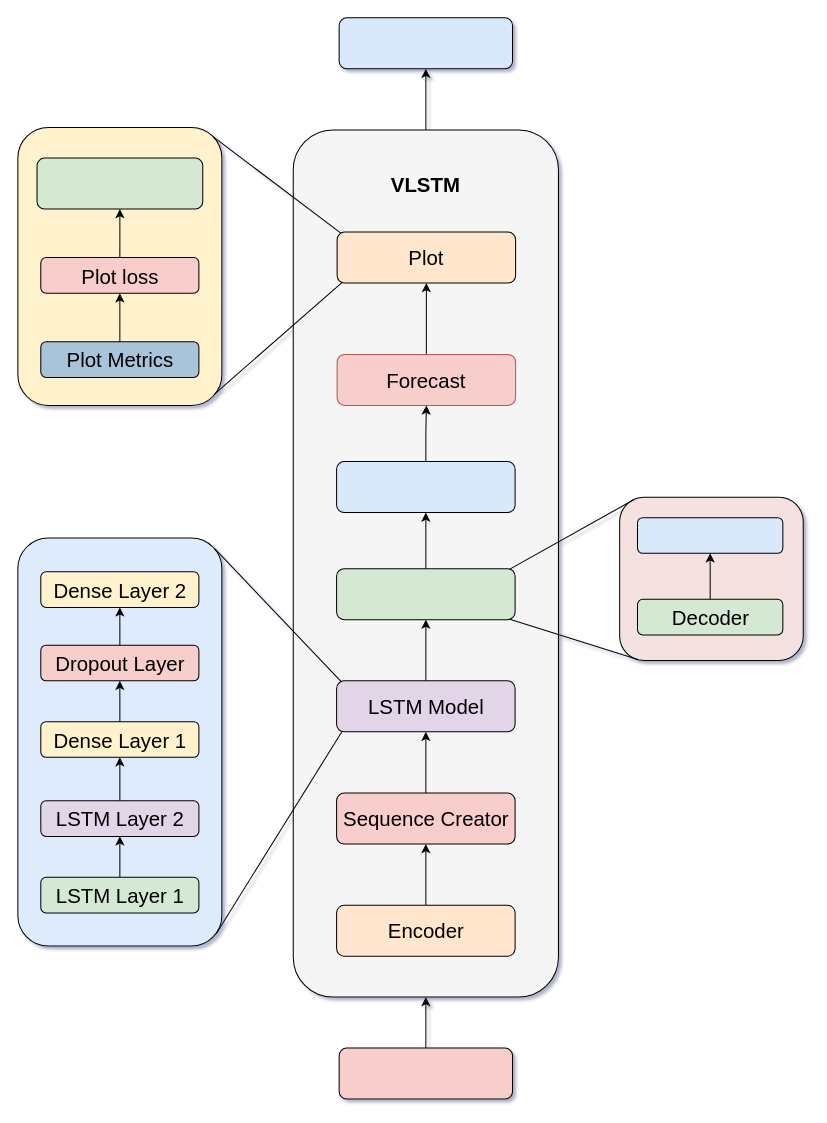
Image size: 827x1123. Some labels were removed from this diagram. Each missing label, with the box of its shape:
Evaluate: (636, 517, 783, 553)
Input: (338, 1047, 513, 1099)
Output: (338, 17, 513, 69)
Plot Actual vs Pred: (36, 157, 203, 209)
Predict: (336, 461, 515, 513)
Train: (336, 568, 515, 620)
